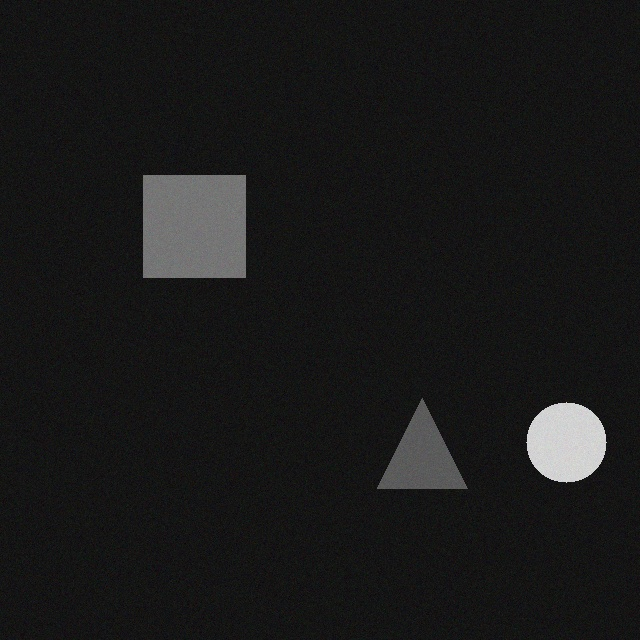circle: (536, 393, 616, 473)
square: (153, 166, 255, 268)
triangle: (387, 389, 477, 479)
